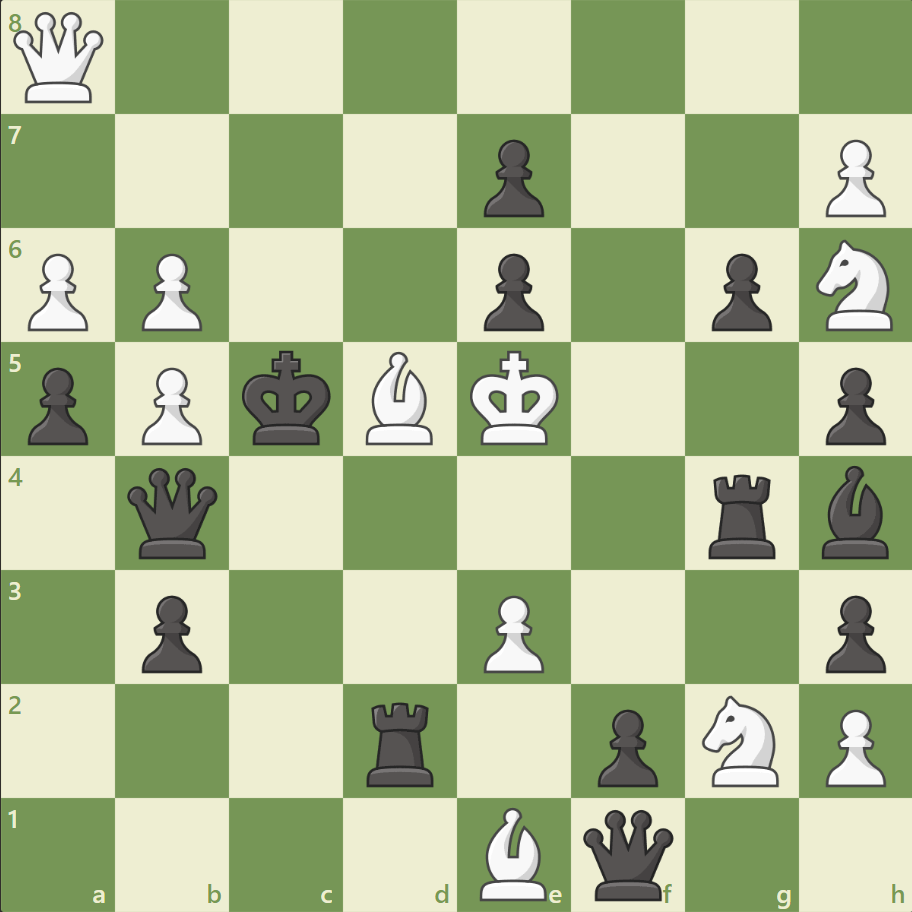B: (471, 801, 555, 904), (358, 347, 442, 449)
K: (465, 344, 565, 452)
N: (806, 234, 903, 337), (692, 688, 789, 791)
P: (20, 246, 95, 337), (133, 246, 208, 337), (133, 359, 208, 450), (474, 586, 549, 677), (815, 132, 889, 223), (815, 700, 889, 791)
Q: (10, 9, 109, 108)
b: (812, 460, 896, 563)
k: (238, 344, 338, 452)
p: (474, 132, 549, 223), (474, 246, 549, 337), (701, 246, 776, 337), (20, 359, 95, 450), (133, 586, 208, 677), (815, 359, 889, 450), (815, 586, 889, 677), (588, 700, 662, 791)
q: (124, 463, 223, 562), (578, 804, 677, 903)
r: (700, 466, 783, 563), (360, 693, 442, 790)
